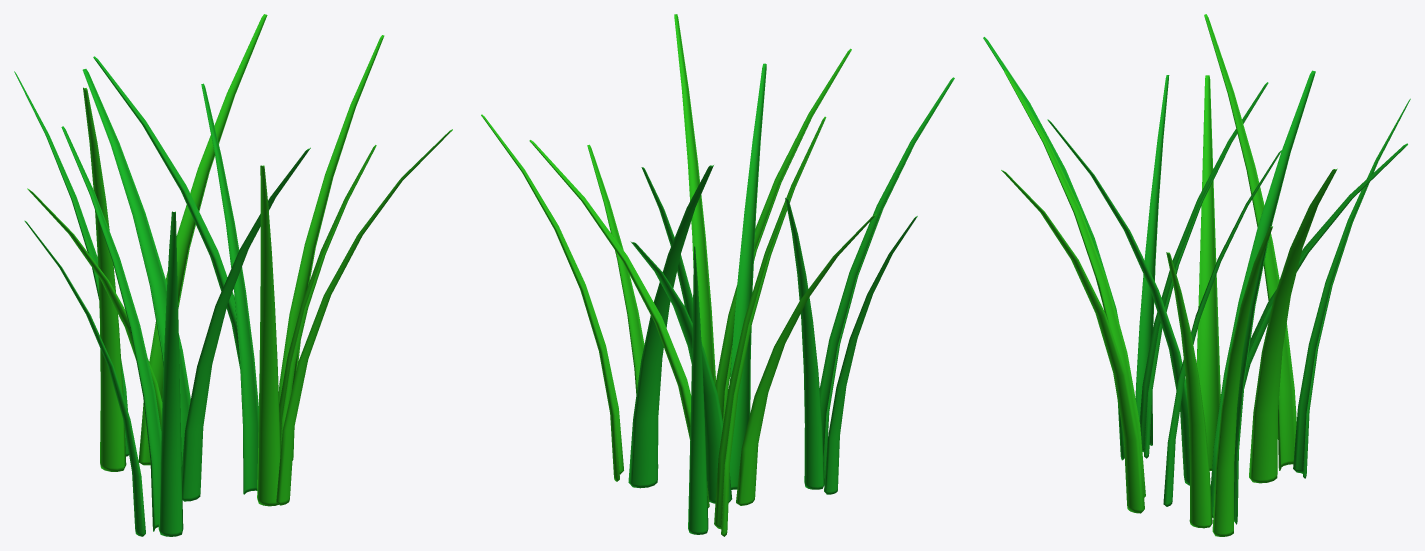
The model's file is Grass.fbx.
3 views of the same model, side by side, from view 1: azimuth 30°, elevation 25°; view 2: azimuth 150°, elevation 25°; view 3: azimuth 270°, elevation 25° (orthographic). The views are drawn at different scales.
Parts seen in each view (by area): view 1: Grass; view 2: Grass; view 3: Grass.
Boxes of the visible parts, x1,y1,x2,y2 form: Grass: [14, 14, 452, 536]; Grass: [481, 14, 954, 536]; Grass: [983, 14, 1410, 536].
Size of the model in its own units: 18.72 by 18.62 by 17.2.
